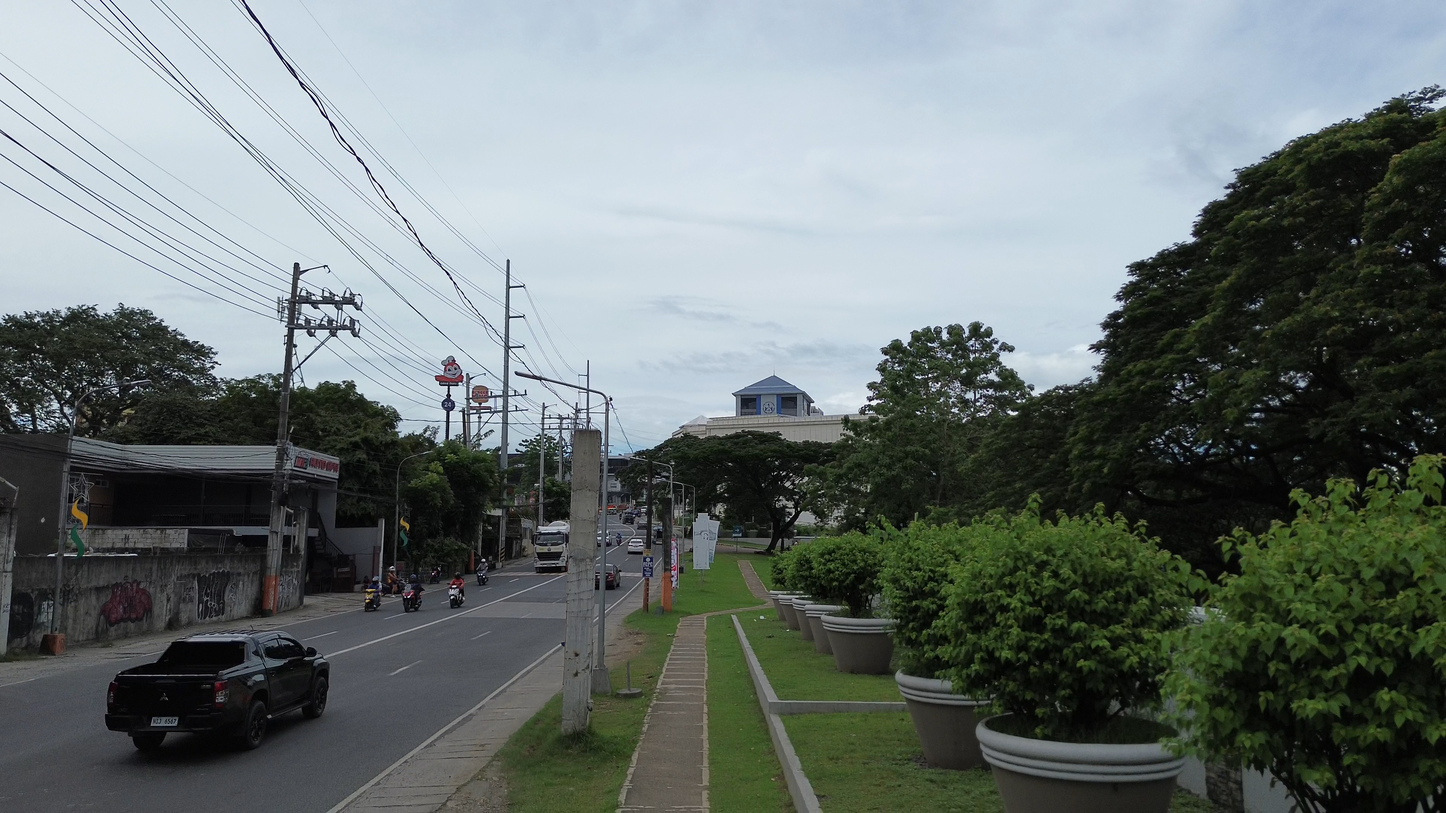motorcycle: (402, 585, 421, 612), (477, 572, 488, 586)
vehicle: (105, 631, 329, 750), (534, 521, 570, 572), (595, 563, 621, 589), (402, 584, 421, 612), (364, 586, 381, 611), (448, 586, 464, 608), (627, 537, 644, 554)
